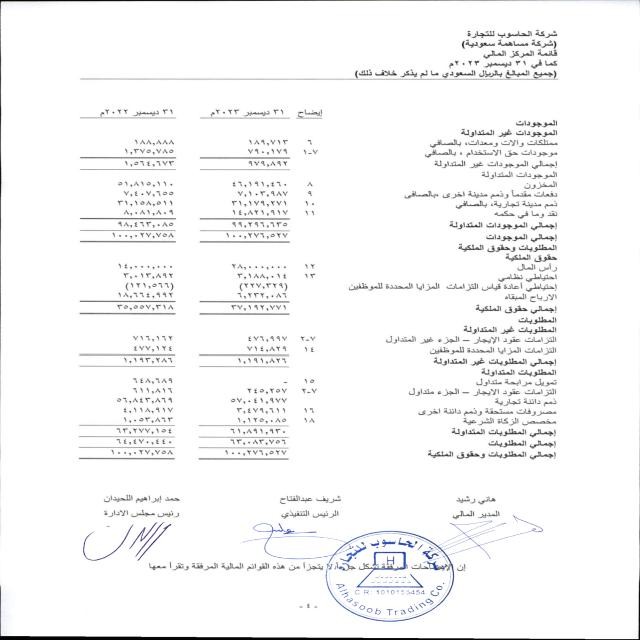financial_sheets: (479, 48, 561, 59)
table: (43, 92, 351, 477)
